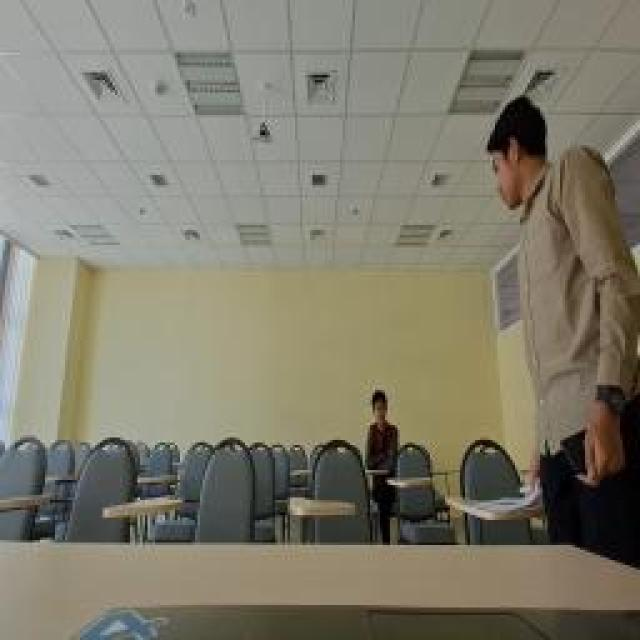study: (365, 390, 400, 465)
